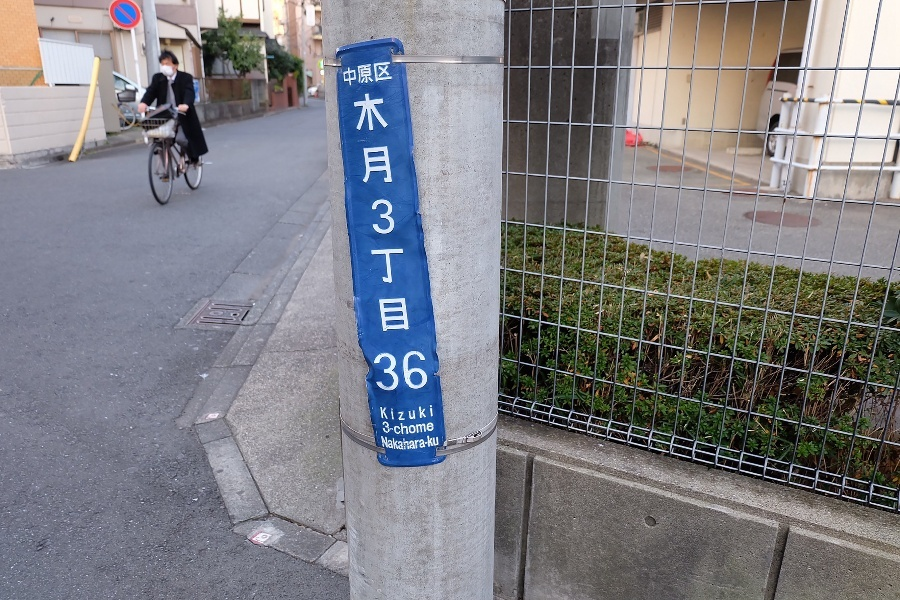text: (353, 92, 368, 333), (369, 92, 384, 333), (385, 92, 400, 333), (401, 92, 413, 333), (385, 350, 400, 393), (401, 350, 416, 393), (417, 350, 429, 393), (373, 350, 384, 393), (353, 62, 368, 87), (369, 62, 384, 87), (385, 405, 400, 421), (401, 405, 416, 421), (417, 405, 432, 421), (343, 62, 352, 87), (385, 436, 400, 451), (401, 436, 416, 451), (417, 436, 432, 451), (385, 421, 400, 435), (401, 421, 416, 435), (417, 421, 432, 435), (385, 62, 392, 87), (433, 436, 440, 451), (380, 405, 384, 421), (381, 436, 384, 451), (382, 421, 384, 435), (433, 421, 435, 435), (433, 405, 434, 421)
